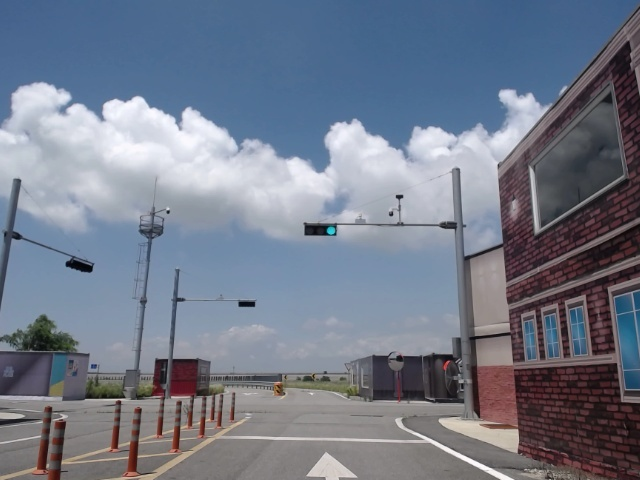green_3: (304, 224, 337, 236)
